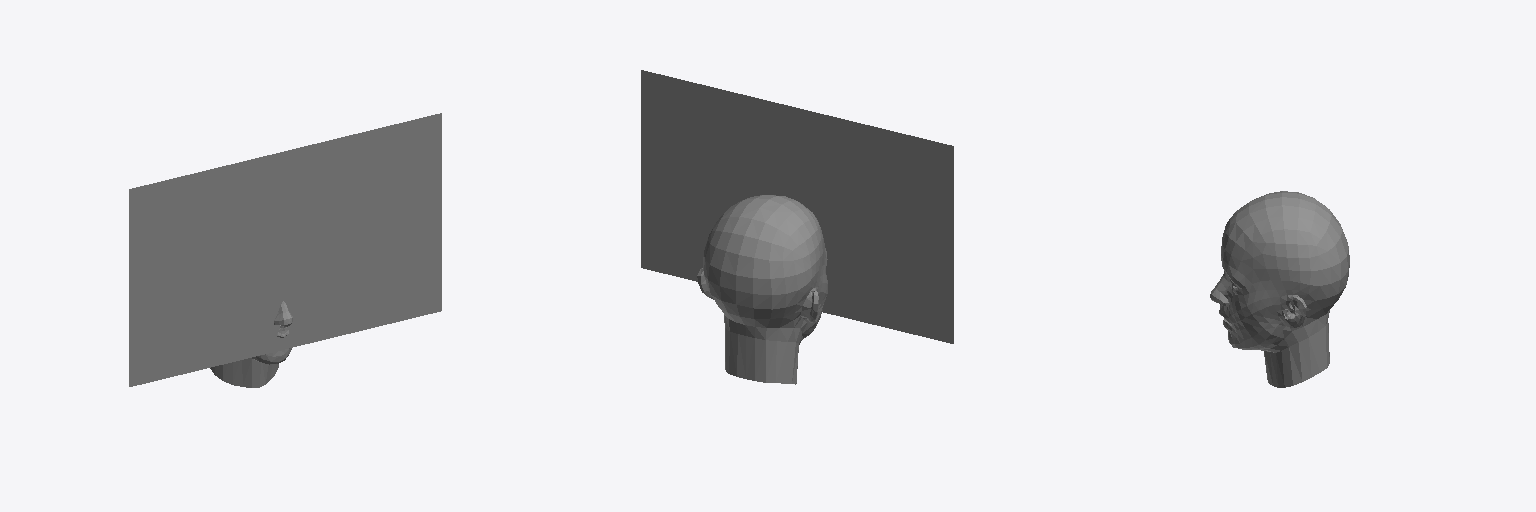
File: pinkhb_aug.obj
The picture shows the model from 3 angles: view 1: azimuth 30°, elevation 25°; view 2: azimuth 150°, elevation 25°; view 3: azimuth 270°, elevation 25°; orthographic projection.
Visible parts, largest first — view 1: Plane005, basehead; view 2: Plane005, basehead, Plane004; view 3: basehead.
Part boxes in pixels (bbox=[...]): Plane005: bbox=[129, 113, 441, 386]; basehead: bbox=[210, 301, 292, 387]; Plane005: bbox=[641, 70, 953, 343]; basehead: bbox=[697, 195, 827, 384]; Plane004: bbox=[826, 265, 843, 305]; basehead: bbox=[1210, 191, 1349, 387].
Bounding box in the file's own units: 0.4839 × 0.3746 × 0.1879.